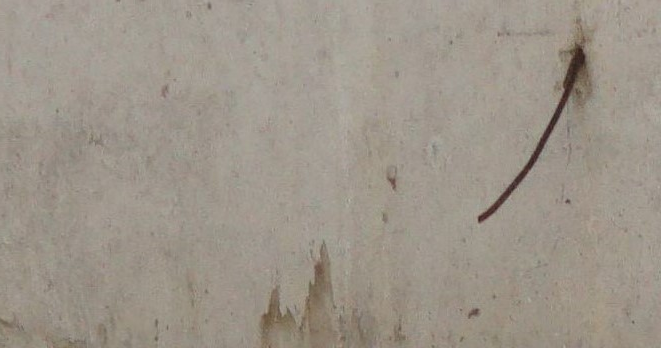Exposed reinforcement: (477, 46, 586, 225)
